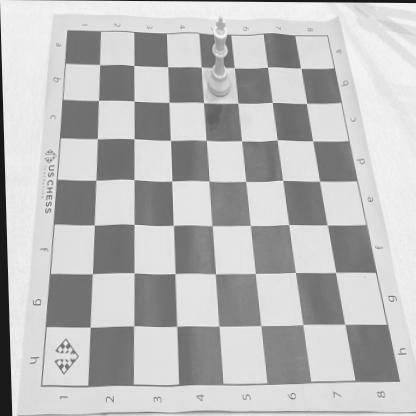white-king: (206, 15, 232, 98)
